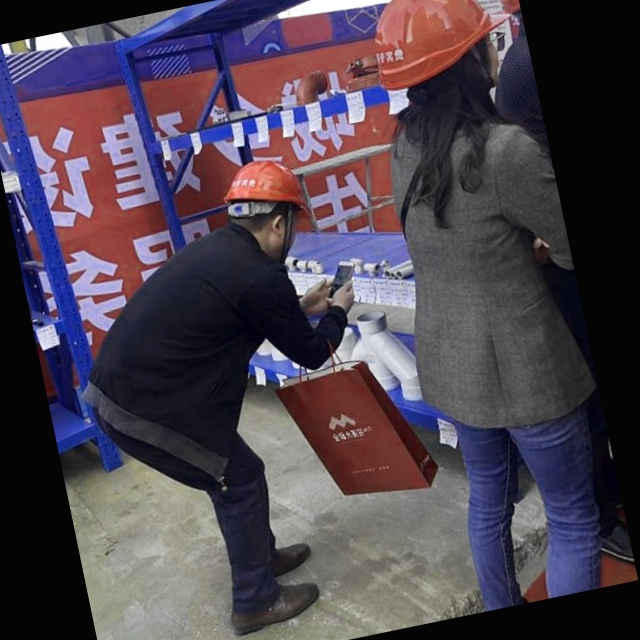Con_Casco: (361, 0, 523, 109), (218, 154, 313, 251)
